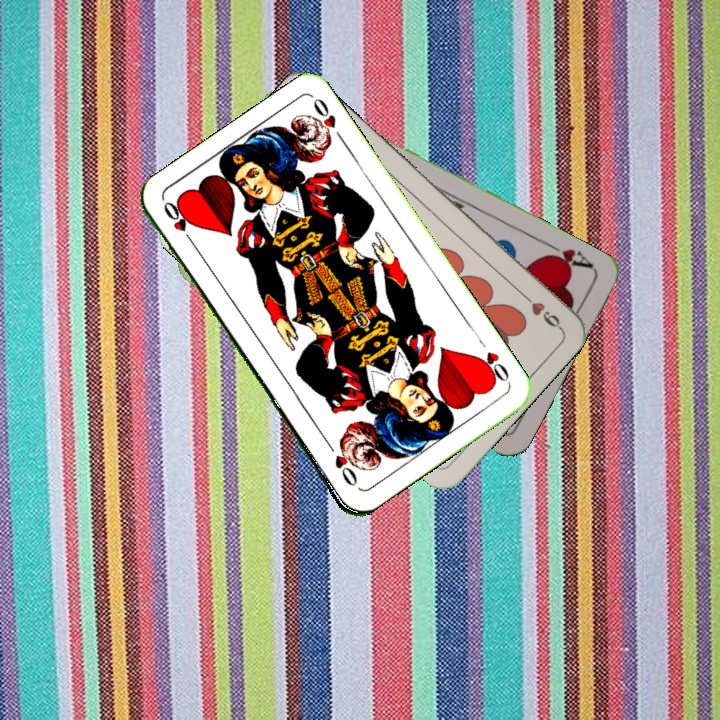H9: (516, 288, 564, 332)
HA: (540, 238, 596, 273)
HO: (472, 334, 513, 387), (159, 197, 199, 249)
